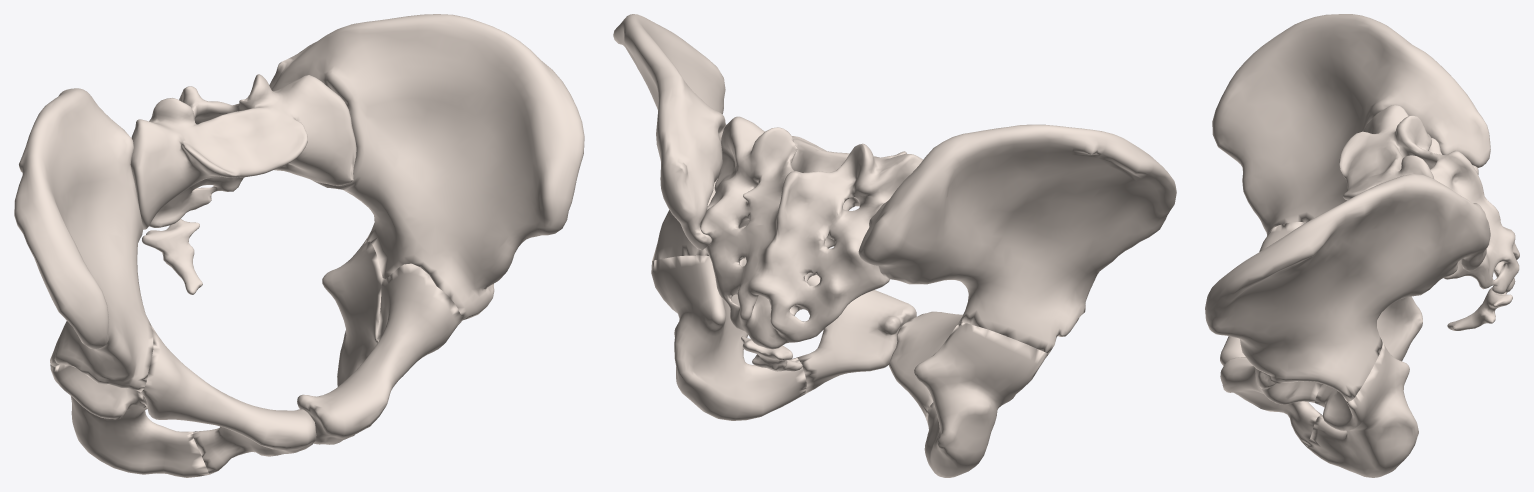
File: vh_f_pelvis-80.glb
The picture shows the model from 3 angles, left to right: view 1: azimuth 30°, elevation 25°; view 2: azimuth 150°, elevation 25°; view 3: azimuth 270°, elevation 25°; orthographic projection. The views are drawn at different scales.
Parts seen in each view (by area): view 1: VH_F_ilium_compact_bone_L, VH_F_ilium_compact_bone_R, VH_F_sacrum, VH_F_pubis_compact_bone_L, VH_F_pubis_compact_bone_R, VH_F_ischium_compact_bone_R, VH_F_ischium_compact_bone_L, VH_F_coccyx; view 2: VH_F_ilium_compact_bone_R, VH_F_sacrum, VH_F_ilium_compact_bone_L, VH_F_ischium_compact_bone_L, VH_F_ischium_compact_bone_R, VH_F_pubis_compact_bone_L, VH_F_pubis_compact_bone_R, VH_F_coccyx; view 3: VH_F_ilium_compact_bone_L, VH_F_ilium_compact_bone_R, VH_F_sacrum, VH_F_ischium_compact_bone_L, VH_F_pubis_compact_bone_L, VH_F_ischium_compact_bone_R, VH_F_coccyx, VH_F_pubis_compact_bone_R.
Part boxes in pixels (x1,y1,x2,y2): VH_F_ilium_compact_bone_L: (269,14,584,320); VH_F_ilium_compact_bone_R: (14,88,153,392); VH_F_sacrum: (130,74,356,229); VH_F_pubis_compact_bone_L: (297,263,462,444); VH_F_pubis_compact_bone_R: (140,325,316,474); VH_F_ischium_compact_bone_R: (50,362,209,477); VH_F_ischium_compact_bone_L: (322,238,382,436); VH_F_coccyx: (142,219,202,294); VH_F_ilium_compact_bone_R: (858,124,1176,354); VH_F_sacrum: (700,116,922,349); VH_F_ilium_compact_bone_L: (613,14,745,260); VH_F_ischium_compact_bone_L: (651,255,806,420); VH_F_ischium_compact_bone_R: (914,322,1048,477); VH_F_pubis_compact_bone_L: (740,258,916,393); VH_F_pubis_compact_bone_R: (889,311,962,420); VH_F_coccyx: (741,336,802,371); VH_F_ilium_compact_bone_L: (1205,174,1490,401); VH_F_ilium_compact_bone_R: (1212,14,1490,235); VH_F_sacrum: (1339,105,1519,294); VH_F_ischium_compact_bone_L: (1307,341,1418,477); VH_F_pubis_compact_bone_L: (1220,357,1322,447); VH_F_ischium_compact_bone_R: (1377,296,1422,361); VH_F_coccyx: (1447,287,1512,330); VH_F_pubis_compact_bone_R: (1220,222,1305,365).
Size of the model in its own units: 0.3168 by 0.2115 by 0.1827.
